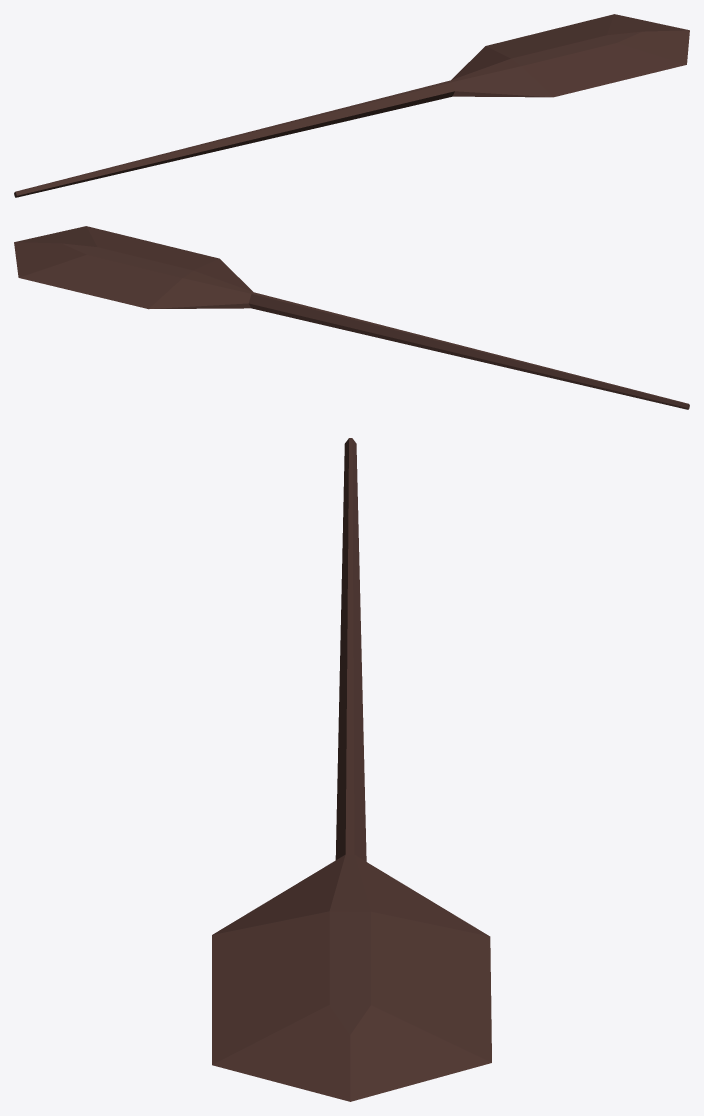
Rendered from Remo.fbx.
The picture shows the model from 3 angles, top to bottom: view 1: azimuth 30°, elevation 25°; view 2: azimuth 150°, elevation 25°; view 3: azimuth 270°, elevation 25°; orthographic projection. The views are drawn at different scales.
Parts seen in each view (by area): view 1: remo1.001; view 2: remo1.001; view 3: remo1.001.
Boxes of the visible parts, x1,y1,x2,y2 form: remo1.001: [14, 14, 689, 197]; remo1.001: [14, 226, 689, 409]; remo1.001: [212, 438, 491, 1101].
Size of the model in its own units: 209 by 6.09 by 37.53.
